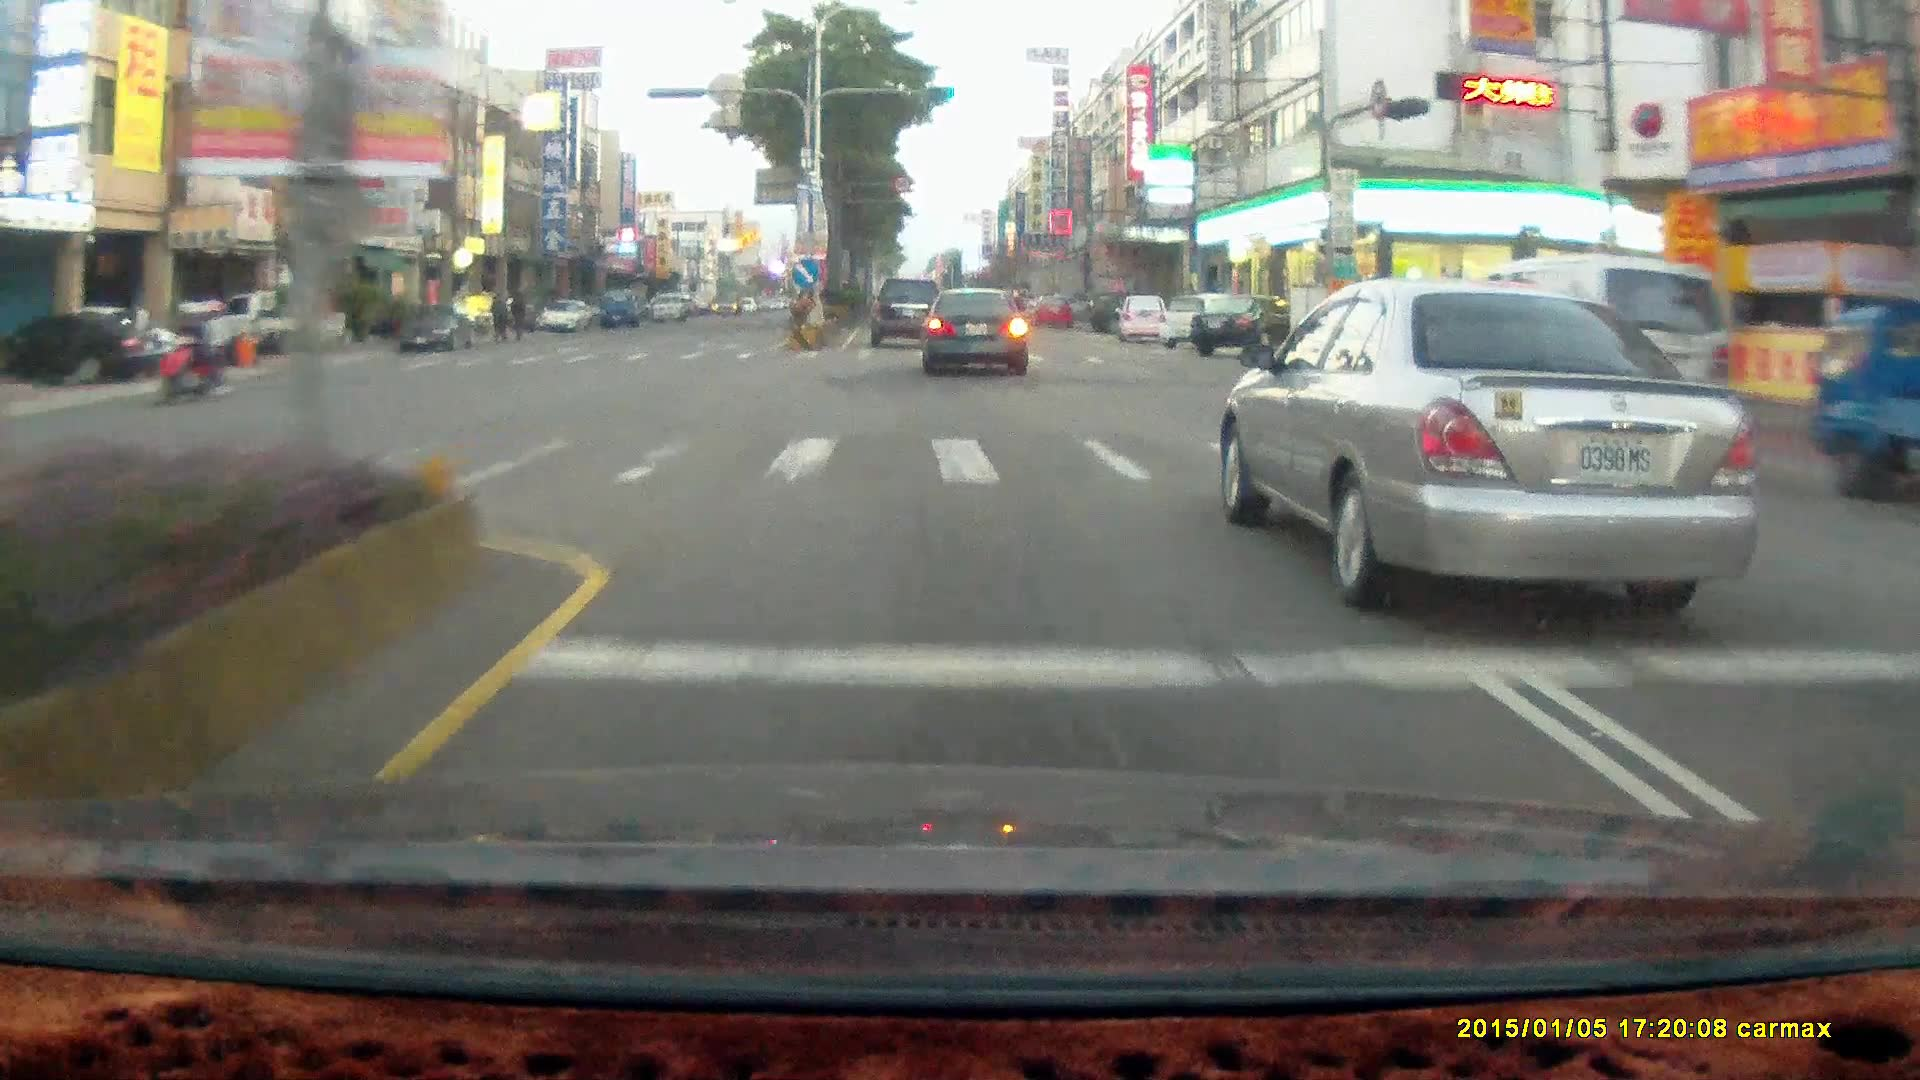pedestrian: (509, 282, 531, 340), (487, 286, 509, 342), (507, 289, 527, 343), (487, 288, 508, 342)
rider: (144, 301, 231, 405)
vehicle: (1222, 282, 1760, 602), (1420, 253, 1743, 477), (1416, 257, 1743, 470), (1811, 304, 1920, 517), (1, 307, 177, 385), (0, 310, 165, 384), (207, 292, 355, 368), (183, 290, 346, 358), (924, 291, 1034, 382), (922, 286, 1027, 376), (1188, 292, 1308, 357), (1190, 295, 1294, 360), (866, 274, 942, 351), (868, 277, 944, 348), (393, 299, 481, 357), (1159, 292, 1246, 349), (398, 308, 475, 351), (1112, 295, 1170, 346), (1086, 289, 1152, 332), (1119, 297, 1173, 349), (536, 299, 595, 335), (536, 298, 589, 331), (599, 289, 637, 326), (1031, 294, 1072, 328), (645, 292, 679, 320)
